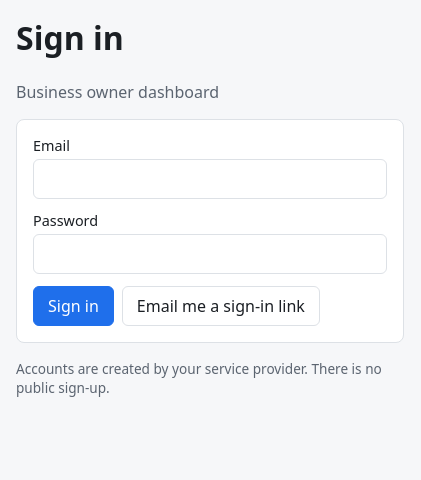
Test: authentication › validates the email and shows sign-in errors
Expected: the heading "Sign in" is shown, [16,16,124,59]
Click the button "Sign in" at point(73, 306), box [33,286,114,326]
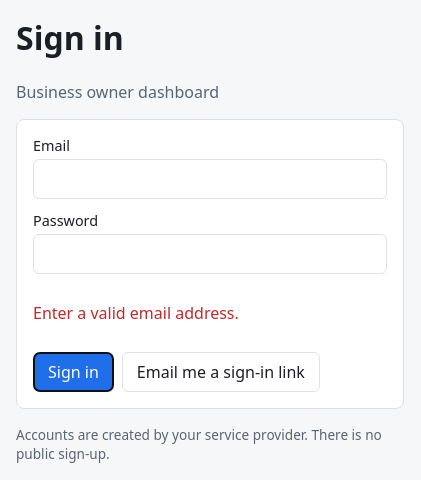
Expected: the message shows "valid email", [33,302,239,324]
Type "owner@example.com" into the field labelled "Email" at point(210, 179), box [33,159,387,199]
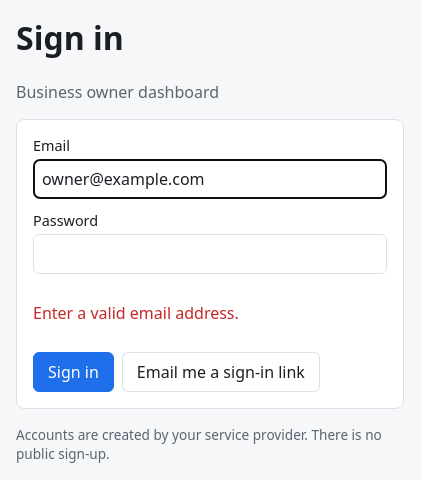
Type "wrong" into the password field labelled "Password" at point(210, 254), box [33,234,387,274]
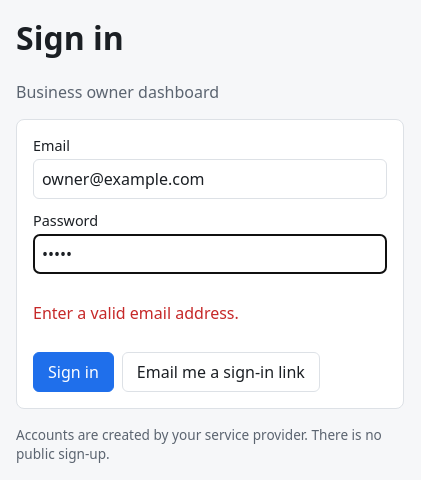
Click the button "Sign in" at point(73, 372), box [33,352,114,392]
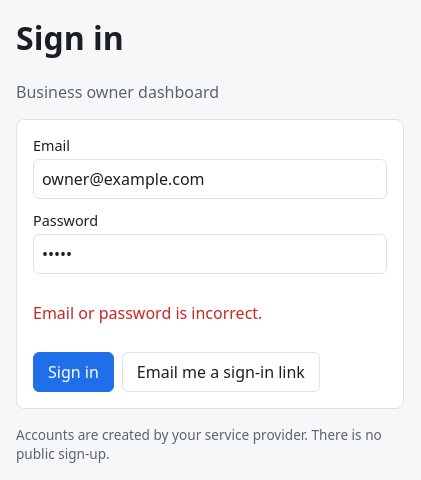
Expected: the message shows "incorrect", [33,302,262,324]
